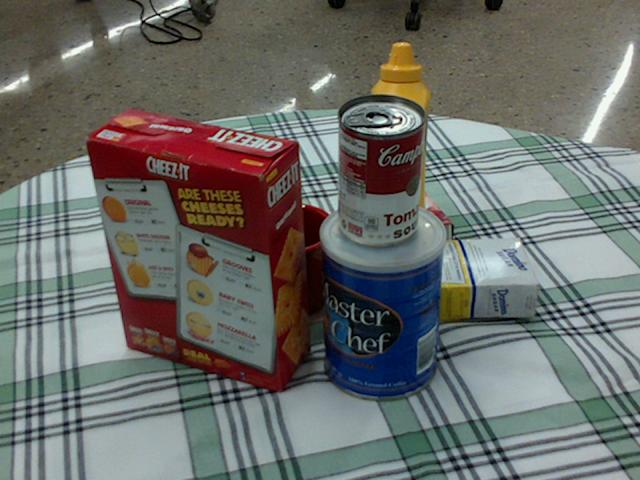cracker_box: (81, 111, 310, 389)
gelatin_box: (352, 192, 451, 259)
master_chef_can: (319, 199, 445, 400)
mug: (237, 203, 334, 318)
mustard_bottle: (368, 43, 428, 245)
potted_meat_can: (154, 212, 249, 299)
sugar_box: (347, 235, 540, 322)
tomato_soup_can: (335, 94, 423, 245)
tuna_fish_can: (164, 182, 252, 254)
